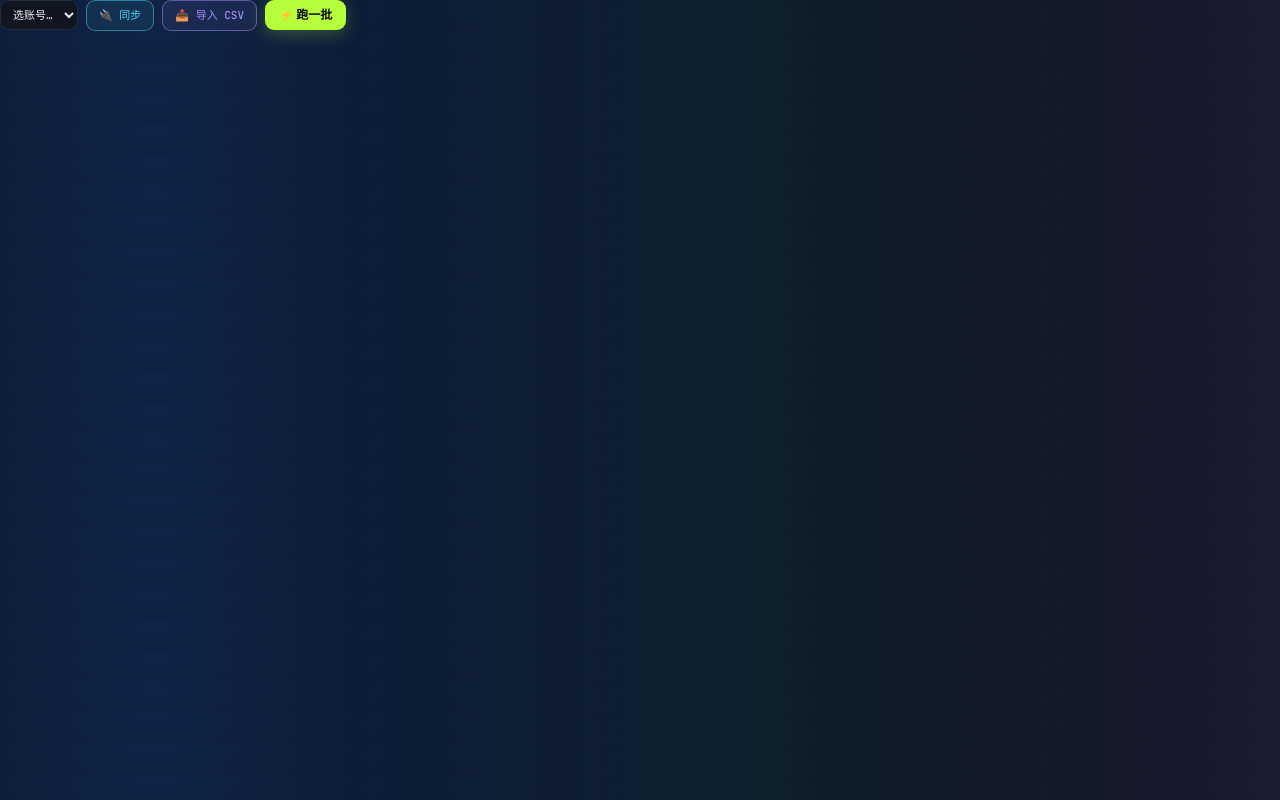
Test: clicking 导入 CSV opens the import modal
Click the button "📥 导入 CSV". click: (210,15)
box: [162,0,257,30]
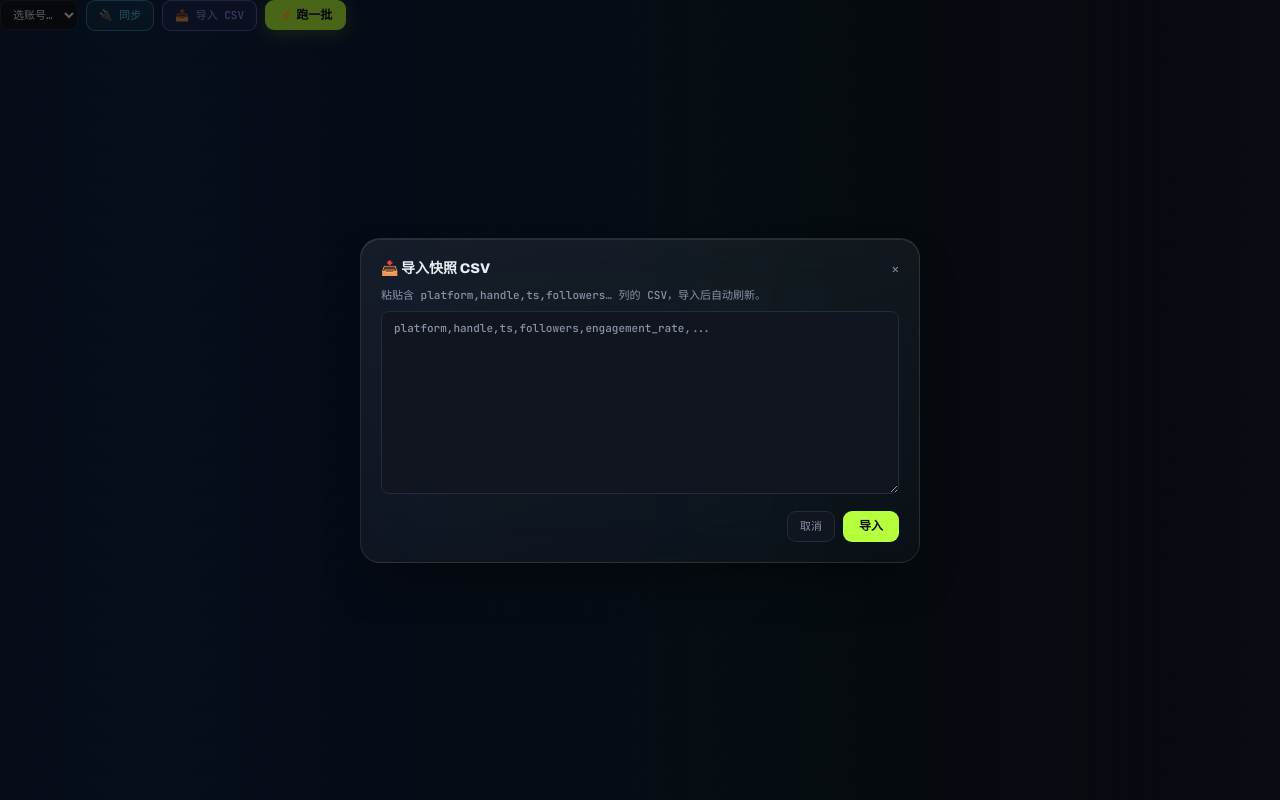
Now the heading "📥 导入快照 CSV" is shown, box [381,258,490,278]
